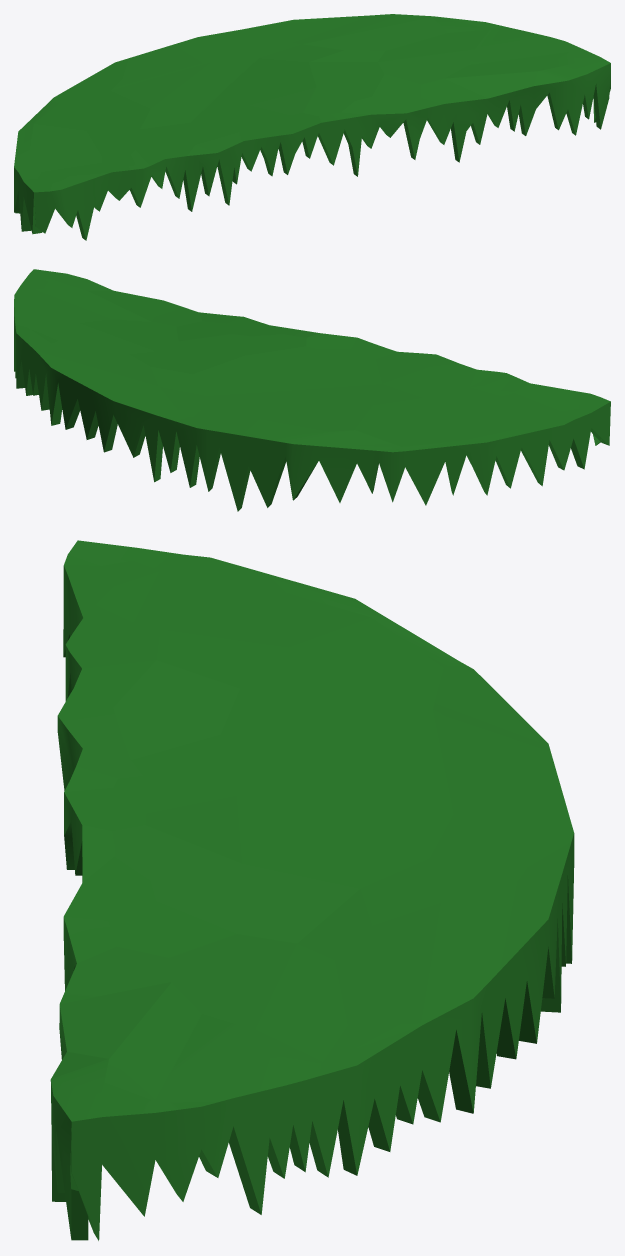
Rendered from grass_layer_arc_bool.fbx.
3 renders of one model, top to bottom at view 1: azimuth 30°, elevation 25°; view 2: azimuth 150°, elevation 25°; view 3: azimuth 270°, elevation 25°, orthographic. The views are drawn at different scales.
Parts seen in each view (by area): view 1: grass_layer_arc_bool; view 2: grass_layer_arc_bool; view 3: grass_layer_arc_bool.
Part boxes in pixels (<box>): grass_layer_arc_bool: <box>14,14,610,240</box>; grass_layer_arc_bool: <box>14,269,610,511</box>; grass_layer_arc_bool: <box>50,540,574,1240</box>.
Bounding box in the file's own units: 1332 × 182 × 525.
